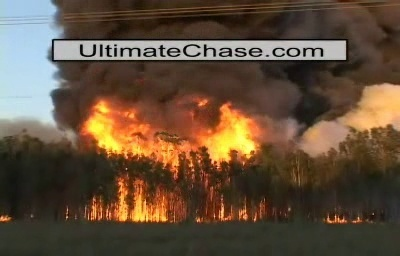fire: (72, 92, 269, 227)
